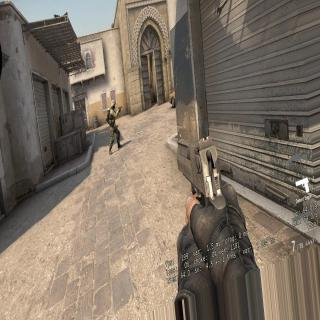CT-Body: (105, 98, 124, 151)
CT-Head: (110, 102, 117, 111)
